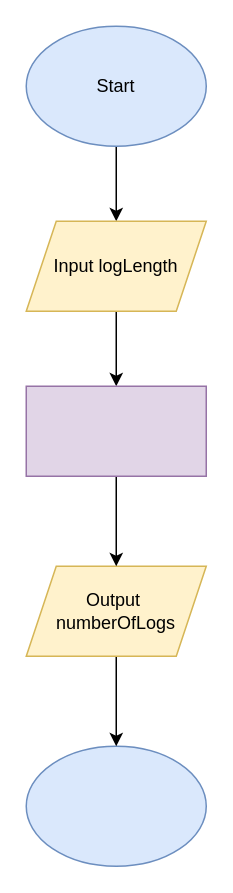
This 233x893 diagram has some shape labels left out. The shapes that lost their labels are listed below. From the top down, each one's box as (x1, y1, x2, y2) in pixels, then its label:
(25, 385, 206, 476): numberOfLogs = weightCapacity / logDensity / logLength
(25, 745, 206, 866): Stop
